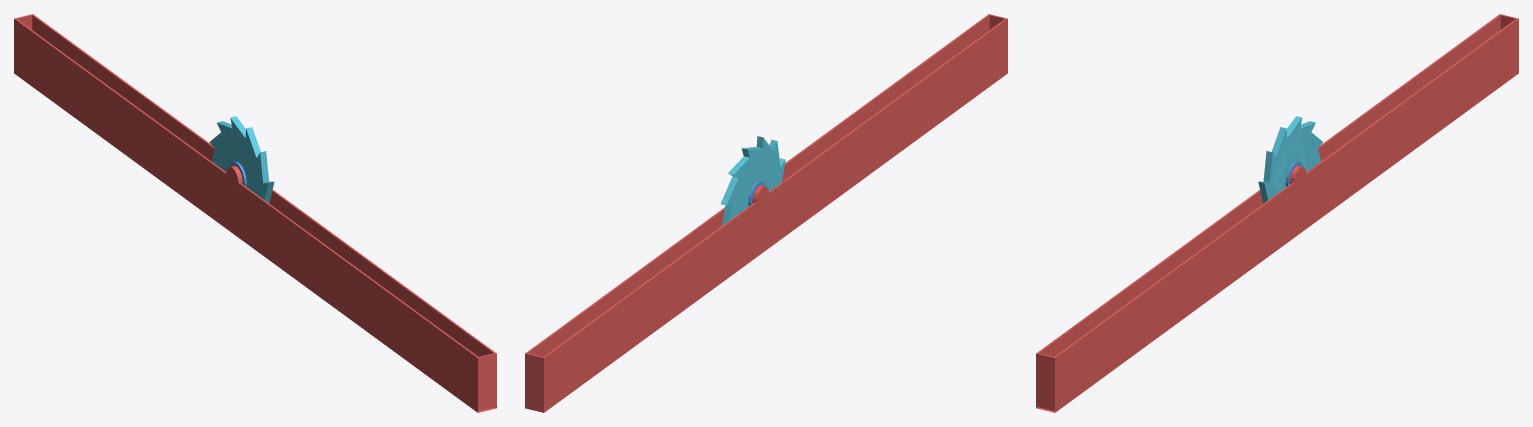
The model's file is obstacle12.fbx.
The picture shows the model from 3 angles, left to right: view 1: azimuth 30°, elevation 25°; view 2: azimuth 150°, elevation 25°; view 3: azimuth 330°, elevation 25°; orthographic projection.
Parts seen in each view (by area): view 1: obstacle12.1, obstacle012.2; view 2: obstacle12.1, obstacle012.2; view 3: obstacle12.1, obstacle012.2.
Boxes of the visible parts, x1,y1,x2,y2 form: obstacle12.1: [14, 14, 496, 412]; obstacle012.2: [209, 116, 274, 203]; obstacle12.1: [525, 14, 1007, 412]; obstacle012.2: [720, 136, 785, 225]; obstacle12.1: [1036, 14, 1518, 412]; obstacle012.2: [1258, 116, 1323, 203].
Size of the model in its own units: 3.83 by 20.58 by 159.
